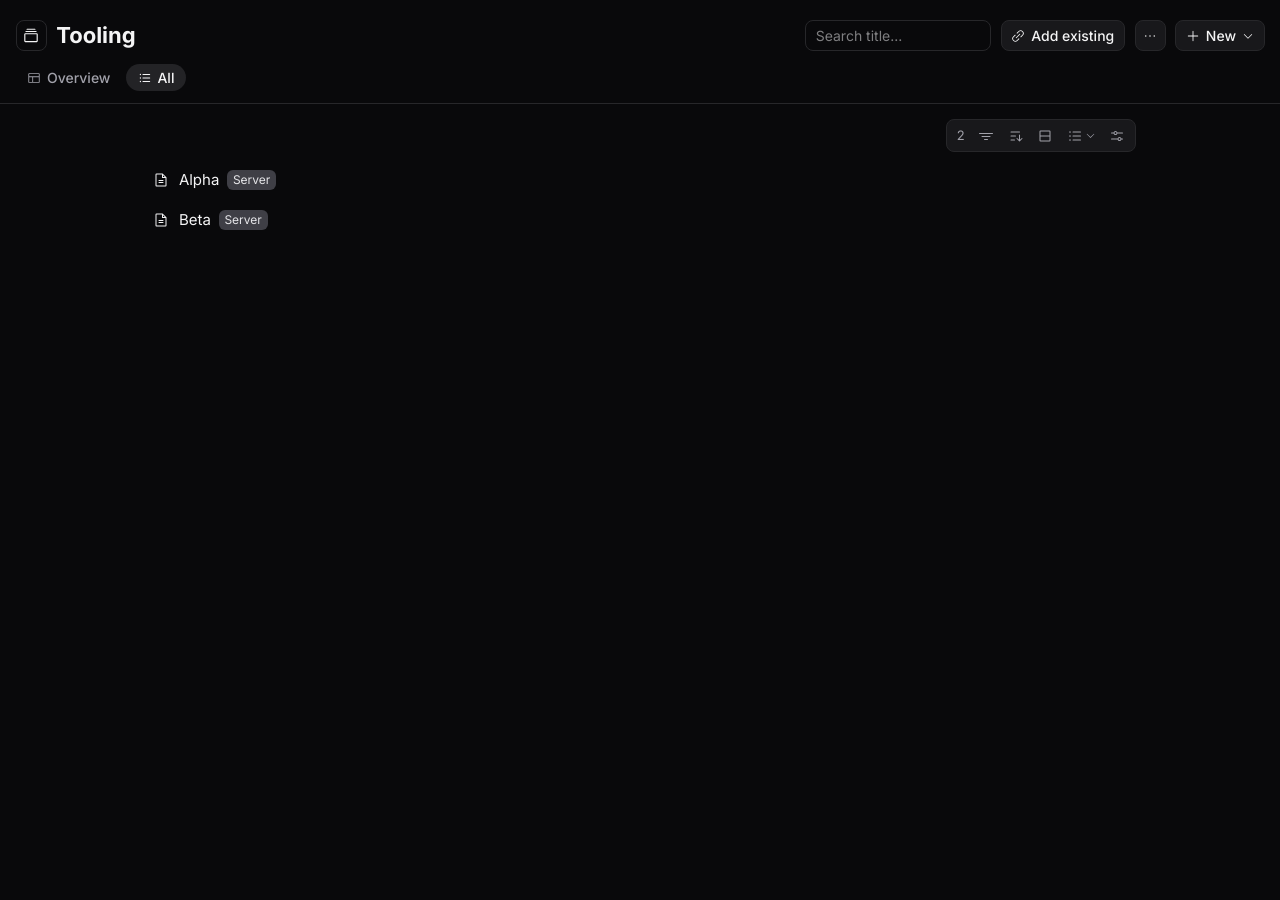
Test case: CollectionPage › test table refused when collection holds two types
This screenshot has width=1280, height=900.
Check: the element with test id "data-view" is shown, box [144,119,1136,240]
Click the button named "Layout".
click(1081, 136)  # box [1061,122,1102,149]
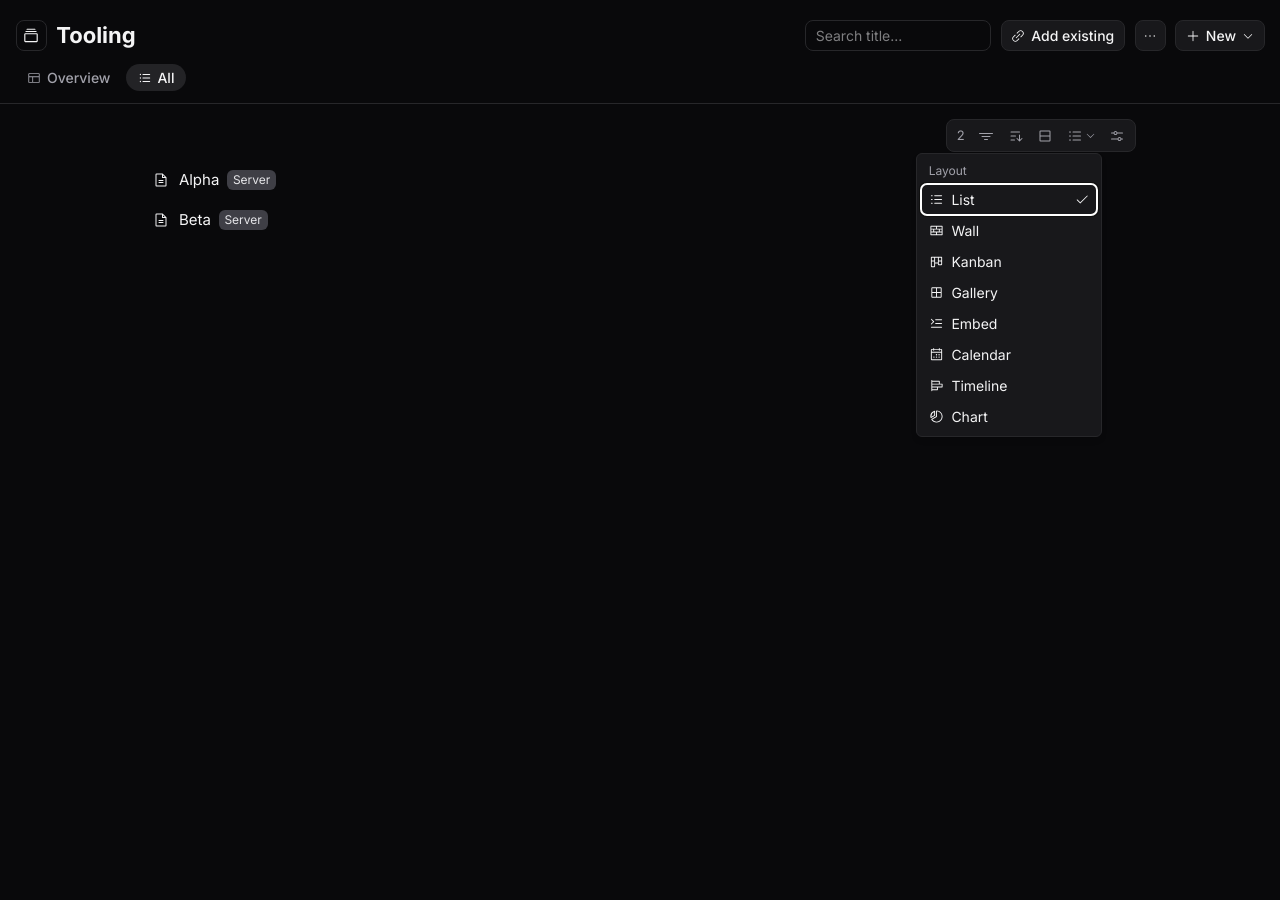
Check: the text "Kanban" is shown, box [951,253,1002,270]
